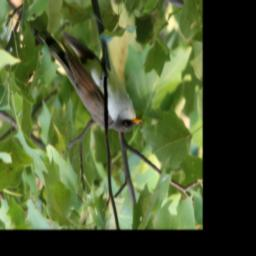Cuckoo: (29, 27, 142, 137)
